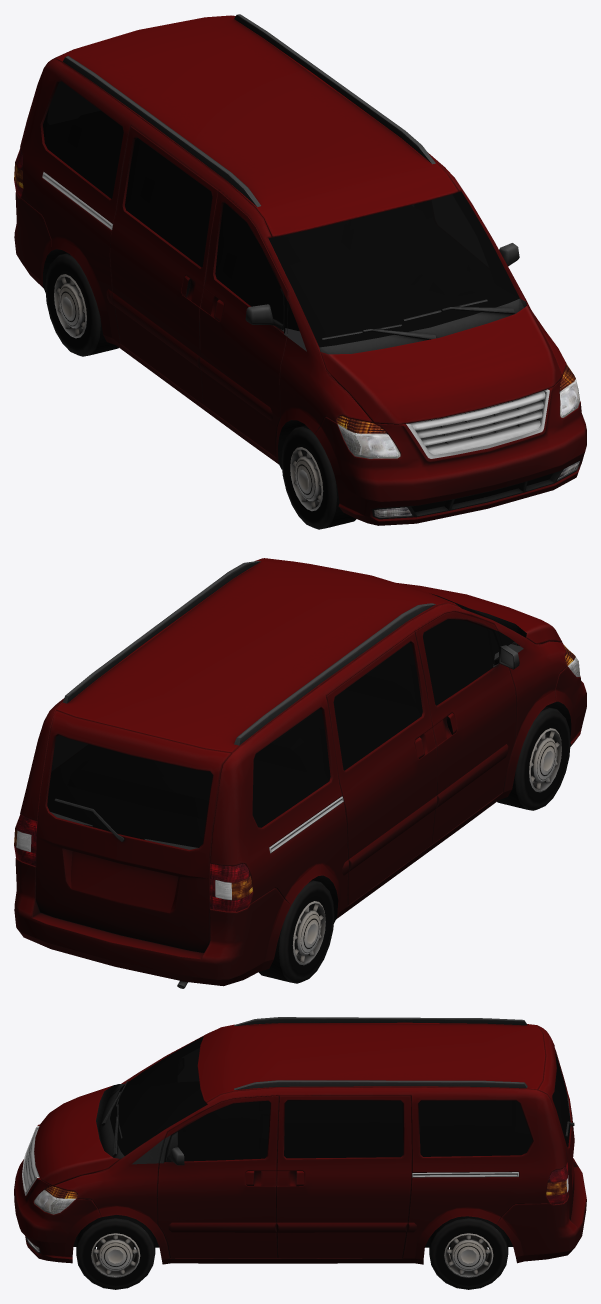
The model's file is car_minivan.glb.
3 renders of one model, top to bottom at view 1: azimuth 30°, elevation 25°; view 2: azimuth 150°, elevation 25°; view 3: azimuth 270°, elevation 25°, orthographic. The views are drawn at different scales.
Parts seen in each view (by area): view 1: minivan_body, Wheel_D002, Wheel_D003; view 2: minivan_body, Wheel_D003, Wheel_D002; view 3: minivan_body, Wheel_D, Wheel_D001.
Part boxes in pixels (bbox=[...]): minivan_body: bbox=[14, 14, 586, 525]; Wheel_D002: bbox=[281, 425, 356, 529]; Wheel_D003: bbox=[45, 253, 118, 356]; minivan_body: bbox=[14, 558, 586, 988]; Wheel_D003: bbox=[258, 880, 334, 983]; Wheel_D002: bbox=[497, 706, 570, 810]; minivan_body: bbox=[14, 1017, 586, 1264]; Wheel_D: bbox=[76, 1215, 155, 1289]; Wheel_D001: bbox=[429, 1216, 508, 1289].
Bounding box in the file's own units: 1.87 × 1.76 × 4.61.
4 materials, 3 textured.
